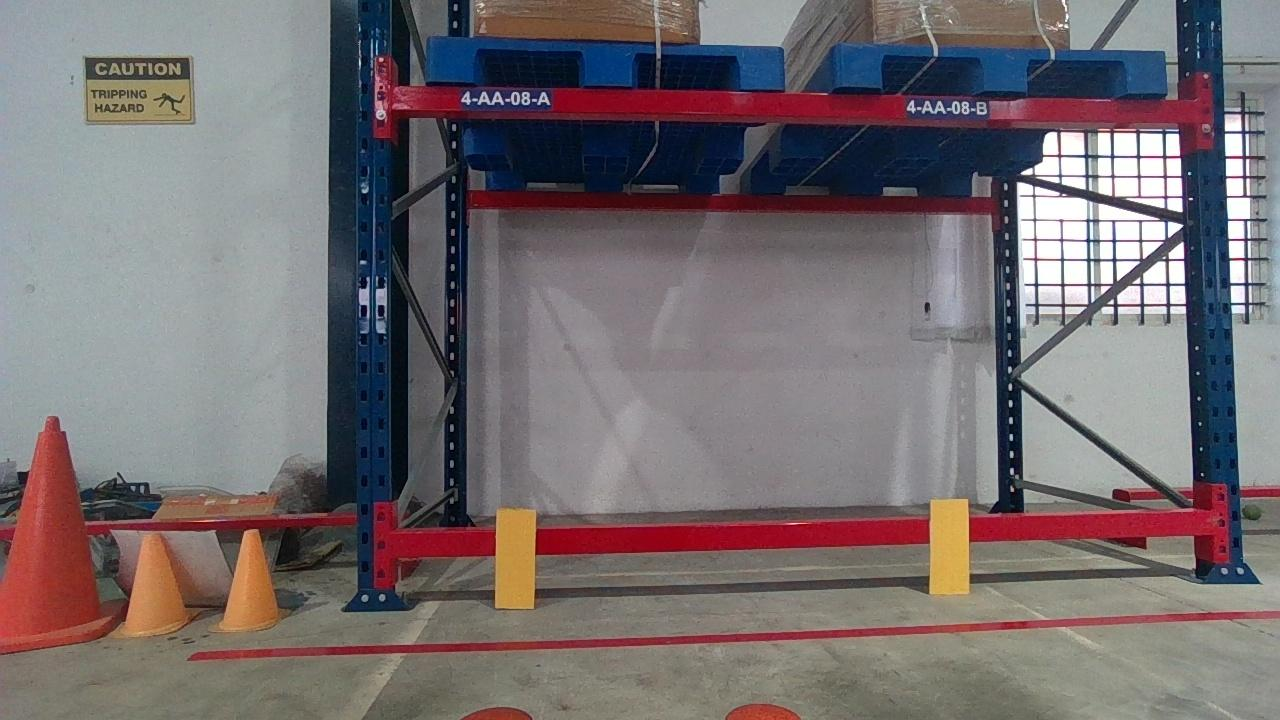h_rack: (377, 510, 1211, 557), (398, 84, 1197, 124)
orange_strip: (495, 506, 537, 606), (929, 497, 970, 593)
red_line: (182, 605, 1279, 665)
small_pallet: (427, 39, 786, 86), (834, 43, 1174, 91)
